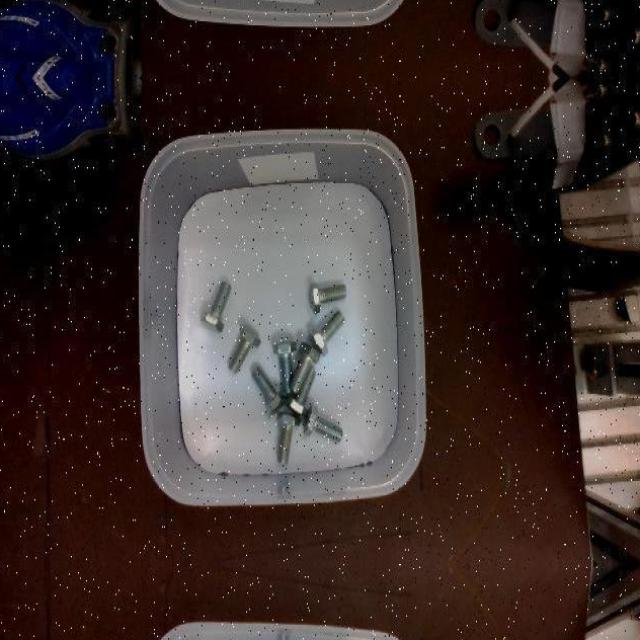screw: (250, 366, 288, 416), (308, 310, 346, 357), (200, 280, 232, 332), (228, 323, 261, 373), (304, 402, 343, 443), (290, 342, 320, 395), (276, 411, 303, 466), (309, 282, 346, 315)
